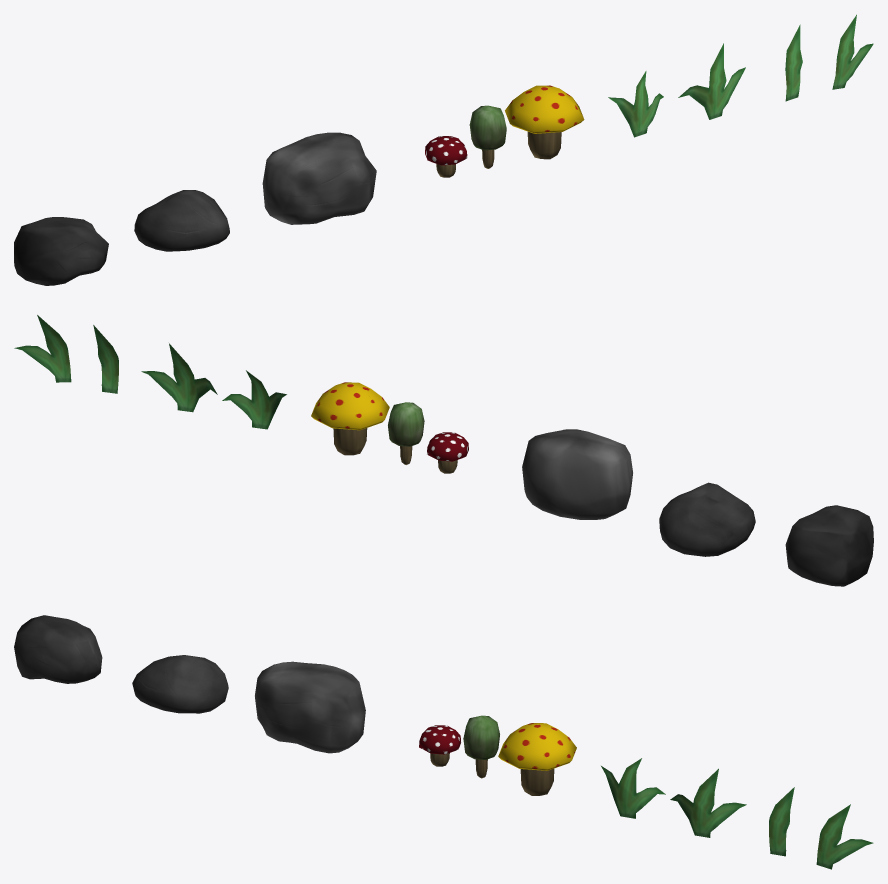
The model's file is assetschaocave.glb.
3 renders of one model, top to bottom at view 1: azimuth 30°, elevation 25°; view 2: azimuth 150°, elevation 25°; view 3: azimuth 330°, elevation 25°, orthographic.
Visible parts, largest first — view 1: pedraG, PedraM, pedraP, CogumeloAmarelo, Plantag.001, CogumeloVerde, Plantag, CogumeloVermelho, Plantag.003, Plantag.002; view 2: pedraG, PedraM, pedraP, CogumeloAmarelo, Plantag.001, CogumeloVerde, Plantag.003, Plantag, CogumeloVermelho, Plantag.002; view 3: pedraG, PedraM, pedraP, CogumeloAmarelo, Plantag.001, CogumeloVerde, Plantag, Plantag.003, CogumeloVermelho, Plantag.002.
Part boxes in pixels (x1,y1,x2,y2): pedraG: (262, 132, 376, 224); PedraM: (14, 217, 108, 285); pedraP: (134, 190, 229, 251); CogumeloAmarelo: (505, 85, 584, 159); Plantag.001: (678, 43, 745, 119); CogumeloVerde: (469, 105, 506, 168); Plantag: (608, 71, 663, 137); CogumeloVermelho: (425, 136, 467, 177); Plantag.003: (832, 14, 873, 89); Plantag.002: (785, 24, 802, 101); pedraG: (522, 429, 632, 519); PedraM: (785, 505, 873, 586); pedraP: (659, 482, 755, 556); CogumeloAmarelo: (311, 382, 389, 455); Plantag.001: (141, 343, 217, 412); CogumeloVerde: (388, 402, 424, 464); Plantag.003: (14, 315, 71, 382); Plantag: (222, 370, 286, 429); CogumeloVermelho: (426, 432, 468, 473); Plantag.002: (93, 325, 118, 393); pedraG: (255, 661, 365, 753); PedraM: (14, 615, 102, 683); pedraP: (132, 655, 228, 713); CogumeloAmarelo: (498, 723, 576, 795); Plantag.001: (670, 768, 746, 837); CogumeloVerde: (463, 715, 499, 778); Plantag: (601, 758, 665, 818); Plantag.003: (816, 804, 873, 869); CogumeloVermelho: (419, 725, 461, 766); Plantag.002: (769, 787, 794, 856).
Size of the model in its own units: 5.56 by 0.4553 by 0.5195.
1 material, 1 textured.
